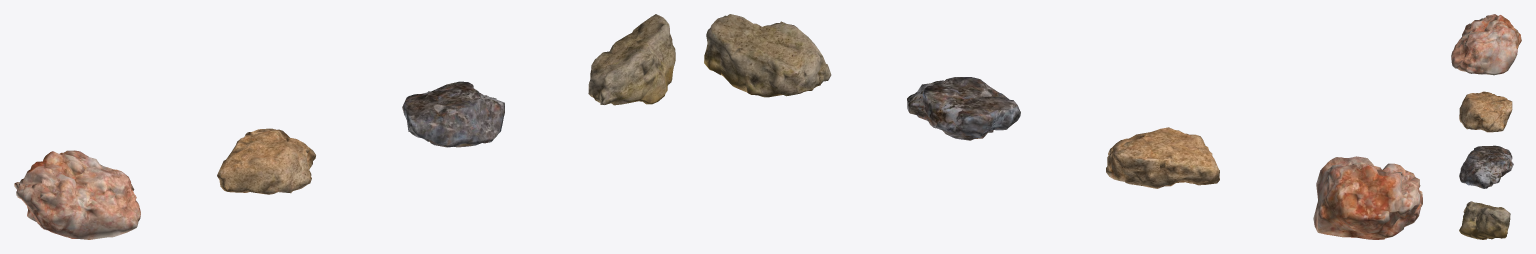
The model's file is namaqualand_rocks_01.glb.
The picture shows the model from 3 angles, left to right: view 1: azimuth 30°, elevation 25°; view 2: azimuth 150°, elevation 25°; view 3: azimuth 270°, elevation 25°; orthographic projection. The views are drawn at different scales.
Visible parts, largest first — view 1: namaqualand_rocks_02_a; view 2: namaqualand_rocks_02_a; view 3: namaqualand_rocks_02_a.
Boxes of the visible parts, box(x1,y1,x2,y2) form: namaqualand_rocks_02_a: box(14, 14, 675, 239); namaqualand_rocks_02_a: box(704, 14, 1422, 239); namaqualand_rocks_02_a: box(1451, 14, 1521, 239).
Size of the model in its own units: 1.45 by 0.152 by 0.2158.
Materials: 1 (1 with a texture image).
